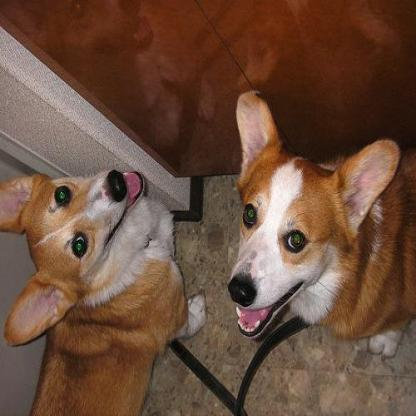Pembroke: (1, 166, 208, 414), (226, 89, 414, 358)
